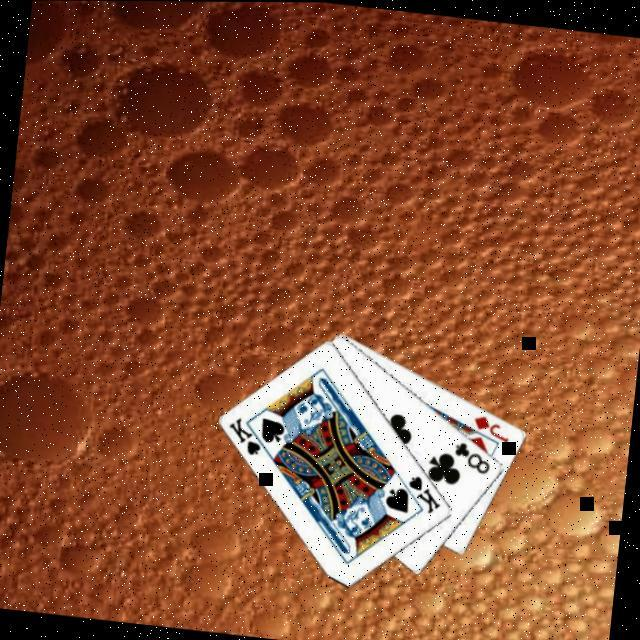8C: (452, 436, 497, 475)
JD: (470, 408, 516, 444)
KS: (225, 410, 276, 458), (404, 469, 448, 515)
